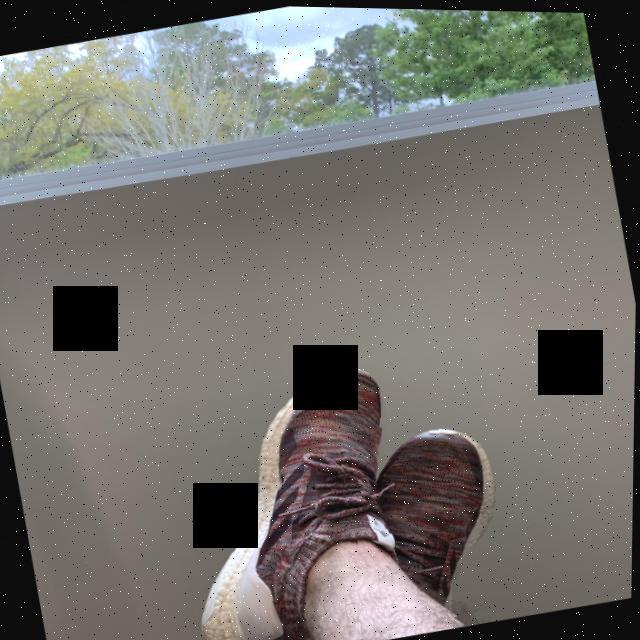shoe: (151, 343, 436, 640), (336, 403, 535, 633)
